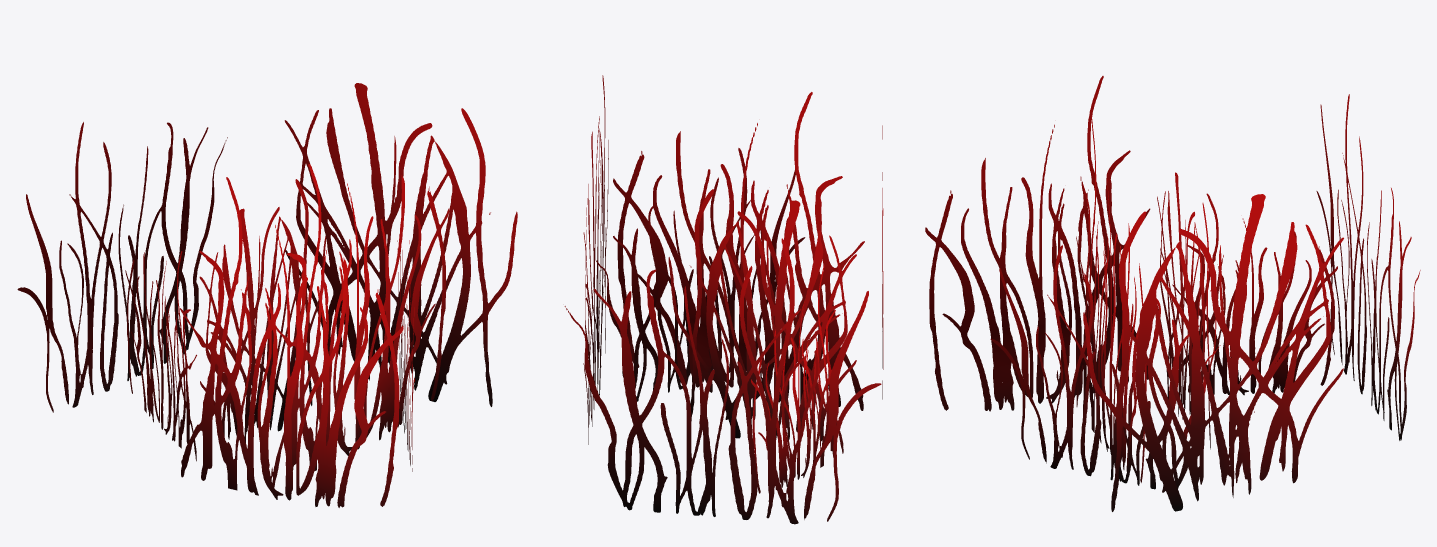
Rendered from SeaWeedBed.fbx.
3 renders of one model, left to right at view 1: azimuth 30°, elevation 25°; view 2: azimuth 150°, elevation 25°; view 3: azimuth 270°, elevation 25°, orthographic.
Parts seen in each view (by area): view 1: SeaGrassBed_LOD0; view 2: SeaGrassBed_LOD0; view 3: SeaGrassBed_LOD0.
Boxes of the visible parts, x1,y1,x2,y2 form: SeaGrassBed_LOD0: [17, 83, 517, 507]; SeaGrassBed_LOD0: [564, 75, 883, 524]; SeaGrassBed_LOD0: [925, 76, 1420, 511].
Size of what is drawn, in the model's own units: 141 by 109 by 154.
